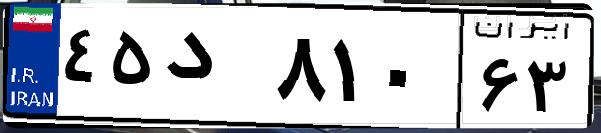0: (385, 28, 445, 110)
1: (330, 28, 385, 110)
3: (525, 38, 570, 115)
4: (57, 26, 110, 100)
5: (110, 28, 158, 98)
6: (475, 38, 525, 113)
8: (270, 28, 330, 110)
د: (158, 20, 270, 120)
